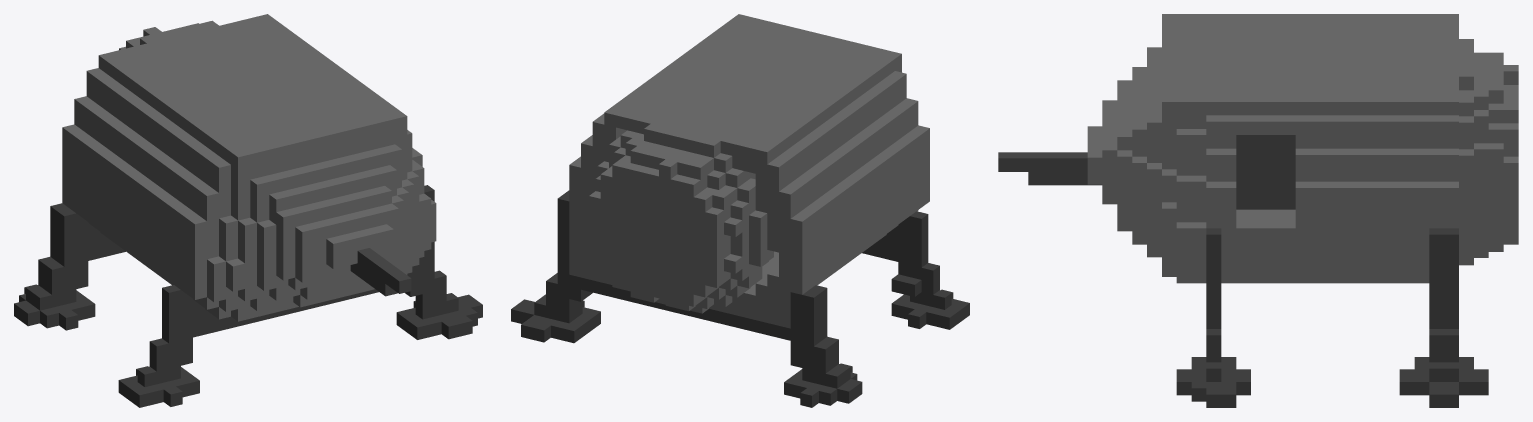
Rendered from lunarBase.FBX.
3 views of the same model, side by side, from view 1: azimuth 30°, elevation 25°; view 2: azimuth 150°, elevation 25°; view 3: azimuth 270°, elevation 25° (orthographic). The views are drawn at different scales.
Parts seen in each view (by area): view 1: default; view 2: default; view 3: default.
Boxes of the visible parts, bbox=[...] form: default: bbox=[14, 14, 482, 407]; default: bbox=[511, 14, 969, 407]; default: bbox=[998, 14, 1518, 407].
Bounding box in the file's own units: 29 × 35 × 19.
Materials: 1 (1 with a texture image).
